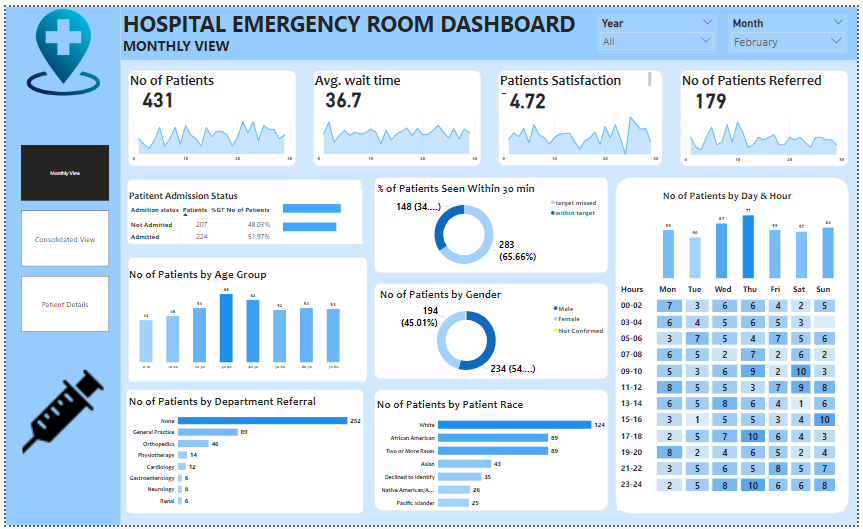

This screenshot's page, from the dashboard's own definition file:
{"tool":"powerbi","page":{"name":"Monthly View","canvas":[2300,1400],"ordinal":0},"visuals":[{"type":"group","id":"g1","title":"Group 1","box":[0,0,2300,1400],"z":0},{"type":"shape","box":[0,0,310,1400],"z":0,"group":"g1"},{"type":"group","id":"g2","title":"Group 12","box":[328.8,170.5,1947.5,261.2],"z":0,"group":"g25"},{"type":"shape","box":[328.8,170.8,455,260.6],"z":0,"group":"g7"},{"type":"shape","box":[829.6,170.8,455,260.6],"z":0,"group":"g11"},{"type":"shape","box":[1821.3,171.1,455,260.6],"z":0,"group":"g10"},{"type":"shape","box":[1330.1,171.7,444.8,259.4],"z":0,"group":"g24"},{"type":"shape","box":[993.6,459.5,633.2,260.3],"z":0,"group":"g13"},{"type":"group","id":"g3","title":"Group 8","box":[1645,459.5,633.2,910.8],"z":0,"group":"g4"},{"type":"shape","box":[1645,459.5,633.2,910.8],"z":0,"group":"g3"},{"type":"shape","box":[326.9,466,634.2,177.2],"z":0,"group":"g14"},{"type":"shape","box":[328.6,676.1,646.7,338.4],"z":0,"group":"g17"},{"type":"shape","box":[993.6,745.3,633.2,260.3],"z":0,"group":"g15"},{"type":"shape","box":[325.6,1032.3,642.4,337],"z":0,"group":"g12"},{"type":"shape","box":[310,0,1990,144],"z":1000,"group":"g1"},{"type":"textbox","box":[310,73.3,463.3,70],"z":1000},{"type":"card","fields":{"Values":["Hospital ER_Data.No of Patients"]},"box":[328.8,207.2,164.3,75.8],"z":1000,"group":"g7"},{"type":"card","fields":{"Values":["Avg(Hospital ER_Data.Patient Waittime)"]},"box":[829.6,207.2,164.3,75.8],"z":1000,"group":"g11"},{"type":"card","fields":{"Values":["CountNonNull(Hospital ER_Data.Department Referral)"]},"box":[1821.3,207.5,164.3,75.8],"z":1000,"group":"g10"},{"type":"card","fields":{"Values":["Avg(Hospital ER_Data.Patient Satisfaction Score)"]},"box":[1330.1,207.9,160.6,75.4],"z":1000,"group":"g24"},{"type":"group","id":"g4","title":"Group 15","box":[326.9,459.5,1951.4,910.8],"z":1000,"group":"g25"},{"type":"group","id":"g5","title":"Group 13","box":[326.9,466,648.5,897.9],"z":1000,"group":"g4"},{"type":"textbox","box":[310,0,1253.3,103.3],"z":2000},{"type":"textbox","box":[1820.7,170.5,427.3,60.6],"z":2000,"group":"g10"},{"type":"textbox","box":[328.8,170.8,271.7,69.7],"z":2000,"group":"g7"},{"type":"textbox","box":[829.6,170.8,271.7,69.7],"z":2000,"group":"g11"},{"type":"textbox","box":[1329.9,171.1,419.3,69.7],"z":2000,"group":"g24"},{"type":"group","id":"g6","title":"Group 14","box":[993.6,459.5,633.2,910.8],"z":2000,"group":"g4"},{"type":"slicer","fields":{"Values":["Hospital ER_Data.Patient Admission Date.1.Variation.Date Hierarchy.Year"]},"box":[1597,21.2,324.2,103],"z":3000},{"type":"areaChart","fields":{"Y":["Hospital ER_Data.No of Patients"],"Category":["Hospital ER_Data.Patient Admission Date.1.Variation.Date Hierarchy.Day"]},"box":[328.8,282.9,451.8,145.5],"z":3000,"group":"g7"},{"type":"areaChart","fields":{"Category":["Hospital ER_Data.Patient Admission Date.1.Variation.Date Hierarchy.Day"],"Y":["Avg(Hospital ER_Data.Patient Waittime)"]},"box":[829.6,282.9,451.8,145.5],"z":3000,"group":"g11"},{"type":"areaChart","fields":{"Category":["Hospital ER_Data.Patient Admission Date.1.Variation.Date Hierarchy.Day"],"Y":["Avg(Hospital ER_Data.Patient Satisfaction Score)"]},"box":[1330.1,283.3,441.7,144.8],"z":3000,"group":"g24"},{"type":"areaChart","fields":{"Category":["Hospital ER_Data.Patient Admission Date.1.Variation.Date Hierarchy.Day"],"Y":["CountNonNull(Hospital ER_Data.Department Referral)"]},"box":[1821.3,283.3,451.8,145.5],"z":3000,"group":"g10"},{"type":"slicer","fields":{"Values":["Hospital ER_Data.Patient Admission Date.1.Variation.Date Hierarchy.Month"]},"box":[1951.5,21.2,324.2,103],"z":4000},{"type":"group","id":"g7","title":"Group 2","box":[328.8,170.8,455,260.6],"z":5000,"group":"g2"},{"type":"group","id":"g8","title":"Group 2","box":[1820.7,170.5,455.6,261.2],"z":6000,"group":"g2"},{"type":"group","id":"g9","title":"Group 2","box":[829.6,170.8,454.5,260.6],"z":8000,"group":"g2"},{"type":"group","id":"g10","title":"Group 5","box":[1820.7,170.5,455.6,261.2],"z":8002,"group":"g8"},{"type":"group","id":"g11","title":"Group 3","box":[829.6,170.8,454.5,260.6],"z":8002,"group":"g9"},{"type":"group","id":"g12","title":"Group 2","box":[325.6,1032.3,645.2,338.7],"z":9000},{"type":"group","id":"g13","title":"Group 2","box":[993.6,459.5,633.2,260.3],"z":9500,"group":"g20"},{"type":"group","id":"g14","title":"Group 2","box":[326.9,466,634.2,177.2],"z":9500,"group":"g16"},{"type":"group","id":"g15","title":"Group 2","box":[993.6,745.3,633.2,260.3],"z":9500,"group":"g22"},{"type":"group","id":"g16","title":"Group 6","box":[326.9,466,634.5,177.2],"z":10000,"group":"g5"},{"type":"pivotTable","title":"Patitent Admission Status","fields":{"Rows":["Hospital ER_Data.Admition status"],"Values":["Hospital ER_Data.No of Patients1","Hospital ER_Data.No of Patients"]},"box":[326.9,496.3,454.5,145.6],"z":10000,"group":"g16"},{"type":"group","id":"g17","title":"Group 2","box":[328.6,676.1,646.7,338.4],"z":11000,"group":"g18"},{"type":"clusteredBarChart","fields":{"Y":["Hospital ER_Data.No of Patients"],"Category":["Hospital ER_Data.Department Referral"]},"box":[326.9,1047.3,639.7,316.5],"z":11000,"group":"g5"},{"type":"barChart","fields":{"Category":["Hospital ER_Data.Admition status"],"Y":["CountNonNull(Hospital ER_Data.Admition status)"]},"box":[741.8,496.3,219.6,145.6],"z":12000,"group":"g16"},{"type":"group","id":"g18","title":"Group 7","box":[326.9,676.1,648.5,338.4],"z":12000,"group":"g5"},{"type":"clusteredColumnChart","fields":{"Category":["Hospital ER_Data.Age Group"],"Y":["Hospital ER_Data.No of Patients"]},"box":[326.9,702.1,610.5,285.8],"z":12000,"group":"g18"},{"type":"group","id":"g19","title":"Group 9","box":[993.6,459.5,633.2,261.6],"z":14000,"group":"g6"},{"type":"group","id":"g20","title":"Group 6","box":[993.6,459.5,633.2,260.3],"z":14000,"group":"g19"},{"type":"donutChart","title":"% of Patients Seen Within 30 min","fields":{"Category":["Hospital ER_Data.Waittime Status"],"Y":["Hospital ER_Data.No of Patients"]},"box":[1000.1,469.2,610.5,251.9],"z":15000,"group":"g19"},{"type":"group","id":"g21","title":"Group 10","box":[993.6,745.3,633.2,261.6],"z":15000,"group":"g6"},{"type":"group","id":"g22","title":"Group 6","box":[993.6,745.3,633.2,261.6],"z":16000,"group":"g21"},{"type":"group","id":"g23","title":"Group 11","box":[993.6,1031.2,633.2,339.1],"z":16000,"group":"g6"},{"type":"image","box":[28.9,0,250,244.7],"z":17000},{"type":"donutChart","title":"No of Patients by Gender","fields":{"Y":["Hospital ER_Data.No of Patients"],"Category":["Hospital ER_Data.Patient Gender"]},"box":[1003.3,755,623.5,251.9],"z":17000,"group":"g21"},{"type":"pageNavigator","box":[39.2,372.4,238,506.8],"z":18000},{"type":"shape","box":[993.6,1031.2,633.2,329.4],"z":18000,"group":"g23"},{"type":"image","box":[8.4,974.4,291.2,238],"z":19000},{"type":"clusteredBarChart","fields":{"Y":["Hospital ER_Data.No of Patients"],"Category":["Hospital ER_Data.Patient Race"]},"box":[996.8,1053.8,626.8,316.5],"z":19000,"group":"g23"},{"type":"group","id":"g24","title":"Group 4","box":[1329.9,171.1,445,260],"z":19001,"group":"g2"},{"type":"group","id":"g25","title":"Group 16","box":[326.9,170.5,1951.4,1199.8],"z":19006},{"type":"pivotTable","fields":{"Rows":["Hospital ER_Data.Waittime Interval"],"Columns":["Hospital ER_Data.Day name"],"Values":["Hospital ER_Data.No of Patients"]},"box":[1649.2,739.8,613.6,621.4],"z":20000,"group":"g3"},{"type":"columnChart","title":"No of Patients by Day & Hour","fields":{"Y":["Hospital ER_Data.No of Patients"],"Category":["Hospital ER_Data.Day name"]},"box":[1768.2,493,474.2,247.7],"z":21000,"group":"g3"}]}

Visuals, with their boxes in screenshot pixels (x1, y1, x2, y2), scaled from the page's 2300x1400 canvas onto the 863x529 screenshot:
"Group 1" group: BBox(0, 0, 862, 528)
shape: BBox(0, 0, 116, 528)
"Group 12" group: BBox(123, 64, 854, 163)
shape: BBox(123, 65, 294, 163)
shape: BBox(311, 65, 482, 163)
shape: BBox(683, 65, 854, 163)
shape: BBox(499, 65, 666, 163)
shape: BBox(373, 174, 610, 272)
"Group 8" group: BBox(617, 174, 855, 518)
shape: BBox(617, 174, 855, 518)
shape: BBox(123, 176, 361, 243)
shape: BBox(123, 255, 366, 383)
shape: BBox(373, 282, 610, 380)
shape: BBox(122, 390, 363, 517)
shape: BBox(116, 0, 862, 54)
textbox: BBox(116, 28, 290, 54)
card - Hospital ER_Data.No of Patients: BBox(123, 78, 185, 107)
card - Avg(Hospital ER_Data.Patient Waittime): BBox(311, 78, 373, 107)
card - CountNonNull(Hospital ER_Data.Department Referral): BBox(683, 78, 745, 107)
card - Avg(Hospital ER_Data.Patient Satisfaction Score): BBox(499, 79, 559, 107)
"Group 15" group: BBox(123, 174, 855, 518)
"Group 13" group: BBox(123, 176, 366, 515)
textbox: BBox(116, 0, 587, 39)
textbox: BBox(683, 64, 843, 87)
textbox: BBox(123, 65, 225, 91)
textbox: BBox(311, 65, 413, 91)
textbox: BBox(499, 65, 656, 91)
"Group 14" group: BBox(373, 174, 610, 518)
slicer - Hospital ER_Data.Patient Admission Date.1.Variation.Date Hierarchy.Year: BBox(599, 8, 721, 47)
areaChart - Hospital ER_Data.No of Patients x Hospital ER_Data.Patient Admission Date.1.Variation.Date Hierarchy.Day: BBox(123, 107, 293, 162)
areaChart - Hospital ER_Data.Patient Admission Date.1.Variation.Date Hierarchy.Day x Avg(Hospital ER_Data.Patient Waittime): BBox(311, 107, 481, 162)
areaChart - Hospital ER_Data.Patient Admission Date.1.Variation.Date Hierarchy.Day x Avg(Hospital ER_Data.Patient Satisfaction Score): BBox(499, 107, 665, 162)
areaChart - Hospital ER_Data.Patient Admission Date.1.Variation.Date Hierarchy.Day x CountNonNull(Hospital ER_Data.Department Referral): BBox(683, 107, 853, 162)
slicer - Hospital ER_Data.Patient Admission Date.1.Variation.Date Hierarchy.Month: BBox(732, 8, 854, 47)
"Group 2" group: BBox(123, 65, 294, 163)
"Group 2" group: BBox(683, 64, 854, 163)
"Group 2" group: BBox(311, 65, 482, 163)
"Group 5" group: BBox(683, 64, 854, 163)
"Group 3" group: BBox(311, 65, 482, 163)
"Group 2" group: BBox(122, 390, 364, 518)
"Group 2" group: BBox(373, 174, 610, 272)
"Group 2" group: BBox(123, 176, 361, 243)
"Group 2" group: BBox(373, 282, 610, 380)
"Group 6" group: BBox(123, 176, 361, 243)
"Patitent Admission Status" pivotTable: BBox(123, 188, 293, 243)
"Group 2" group: BBox(123, 255, 366, 383)
clusteredBarChart - Hospital ER_Data.No of Patients x Hospital ER_Data.Department Referral: BBox(123, 396, 363, 515)
barChart - Hospital ER_Data.Admition status x CountNonNull(Hospital ER_Data.Admition status): BBox(278, 188, 361, 243)
"Group 7" group: BBox(123, 255, 366, 383)
clusteredColumnChart - Hospital ER_Data.Age Group x Hospital ER_Data.No of Patients: BBox(123, 265, 352, 373)
"Group 9" group: BBox(373, 174, 610, 272)
"Group 6" group: BBox(373, 174, 610, 272)
"% of Patients Seen Within 30 min" donutChart: BBox(375, 177, 604, 272)
"Group 10" group: BBox(373, 282, 610, 380)
"Group 6" group: BBox(373, 282, 610, 380)
"Group 11" group: BBox(373, 390, 610, 518)
image: BBox(11, 0, 105, 92)
"No of Patients by Gender" donutChart: BBox(376, 285, 610, 380)
pageNavigator: BBox(15, 141, 104, 332)
shape: BBox(373, 390, 610, 514)
image: BBox(3, 368, 112, 458)
clusteredBarChart - Hospital ER_Data.No of Patients x Hospital ER_Data.Patient Race: BBox(374, 398, 609, 518)
"Group 4" group: BBox(499, 65, 666, 163)
"Group 16" group: BBox(123, 64, 855, 518)
pivotTable - Hospital ER_Data.Waittime Interval x Hospital ER_Data.Day name: BBox(619, 280, 849, 514)
"No of Patients by Day & Hour" columnChart: BBox(663, 186, 841, 280)
